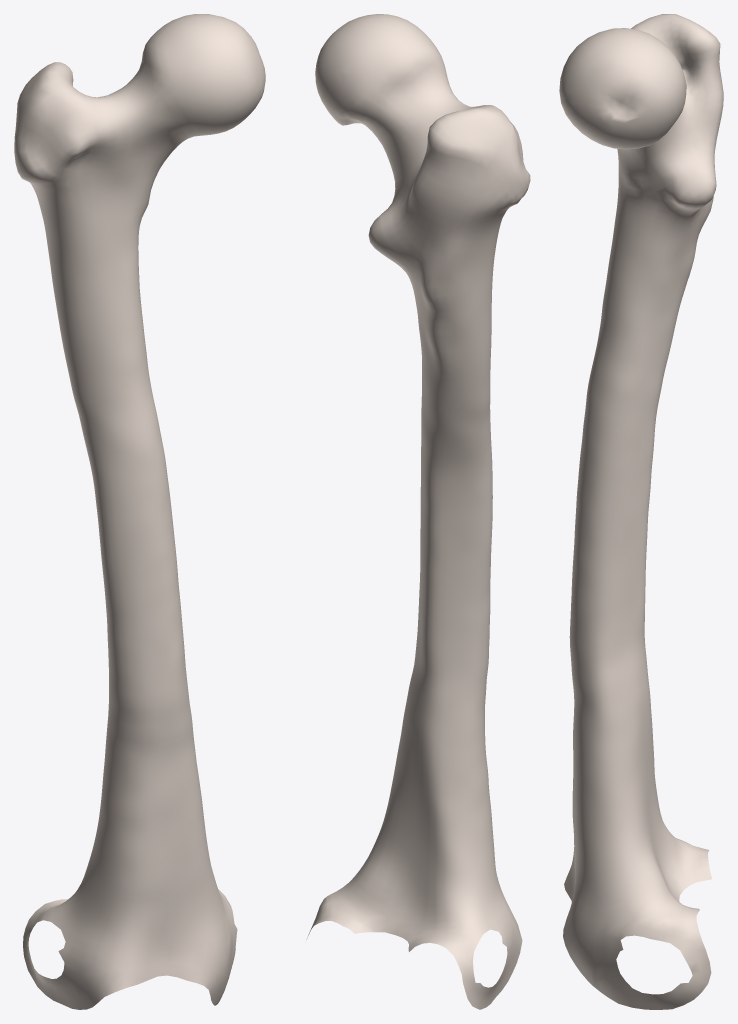
The model's file is frau2-998.glb.
3 renders of one model, left to right at view 1: azimuth 30°, elevation 25°; view 2: azimuth 150°, elevation 25°; view 3: azimuth 270°, elevation 25°, orthographic. The views are drawn at different scales.
Parts seen in each view (by area): view 1: VH_F_femur_R; view 2: VH_F_femur_R; view 3: VH_F_femur_R.
Boxes of the visible parts, <box> form: VH_F_femur_R: <box>14,14,265,1009</box>; VH_F_femur_R: <box>306,14,530,1009</box>; VH_F_femur_R: <box>559,14,723,1009</box>.
Size of the model in its own units: 0.0981 by 0.4208 by 0.0651.
